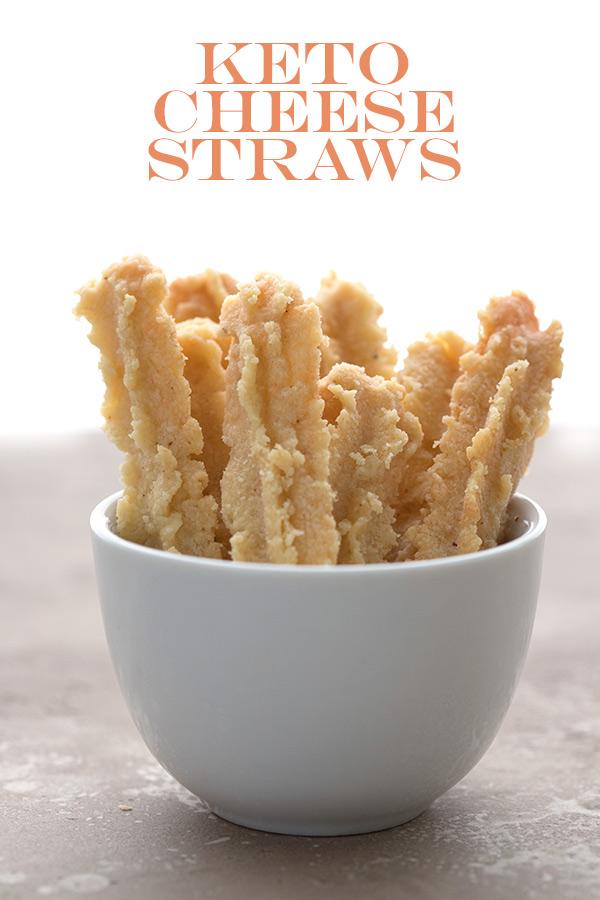cheese: (72, 220, 570, 547)
